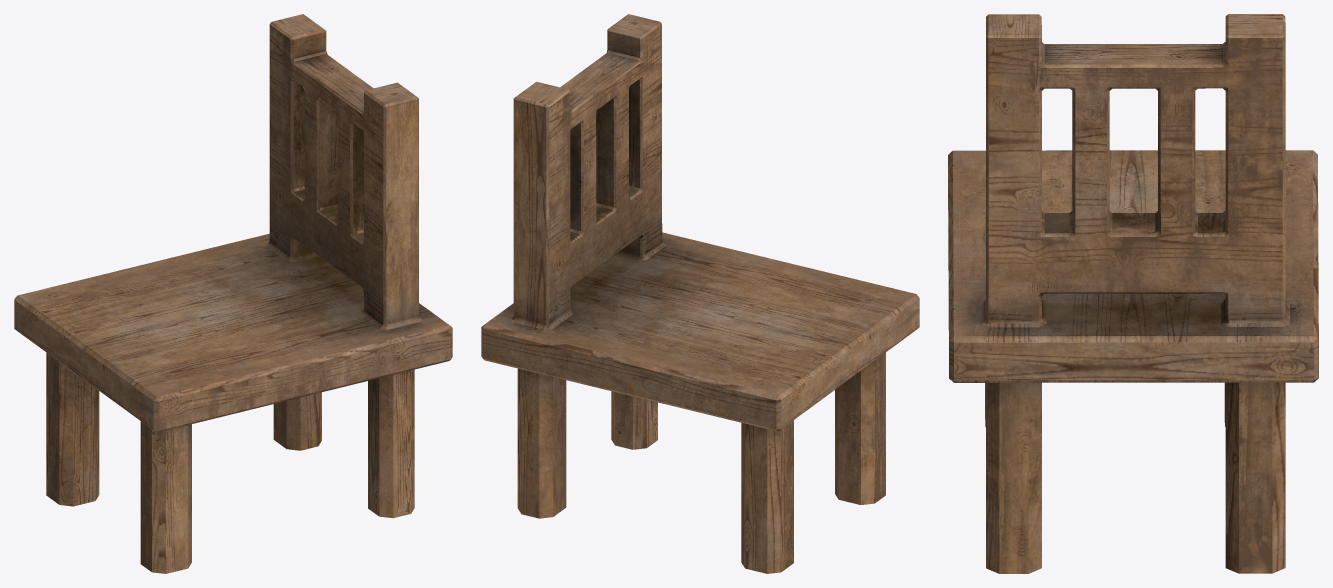
The model's file is Chair.fbx.
3 views of the same model, side by side, from view 1: azimuth 30°, elevation 25°; view 2: azimuth 150°, elevation 25°; view 3: azimuth 270°, elevation 25° (orthographic). The views are drawn at different scales.
Parts seen in each view (by area): view 1: MainHall_Table_6.017; view 2: MainHall_Table_6.017; view 3: MainHall_Table_6.017.
Part boxes in pixels (x1,y1,x2,y2): MainHall_Table_6.017: (14,14,452,573); MainHall_Table_6.017: (481,14,919,573); MainHall_Table_6.017: (948,14,1318,573).
Bounding box in the file's own units: 84.05 × 111 × 69.3.
